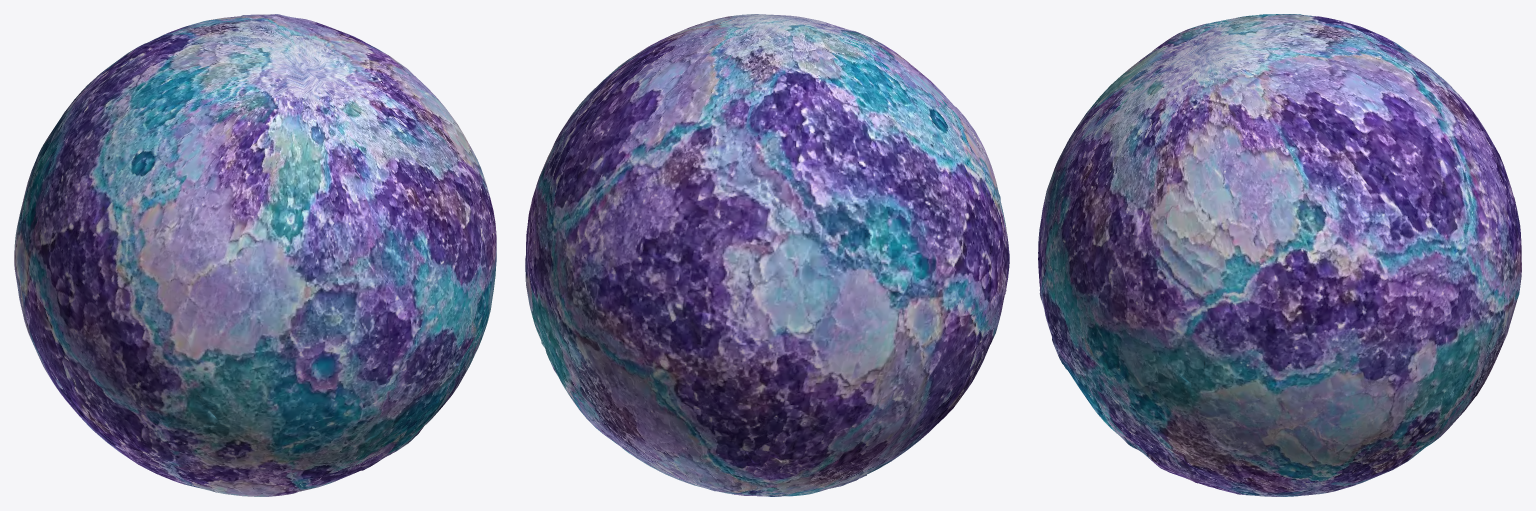
File: planet_9.glb
The picture shows the model from 3 angles, left to right: view 1: azimuth 30°, elevation 25°; view 2: azimuth 150°, elevation 25°; view 3: azimuth 270°, elevation 25°; orthographic projection.
Parts seen in each view (by area): view 1: Mesh_0.001; view 2: Mesh_0.001; view 3: Mesh_0.001.
Part boxes in pixels (x1,y1,x2,y2): Mesh_0.001: [14, 14, 496, 496]; Mesh_0.001: [525, 14, 1009, 496]; Mesh_0.001: [1038, 14, 1521, 496].
Bounding box in the file's own units: 1.9 × 1.9 × 1.9.
Materials: 1 (1 with a texture image).
